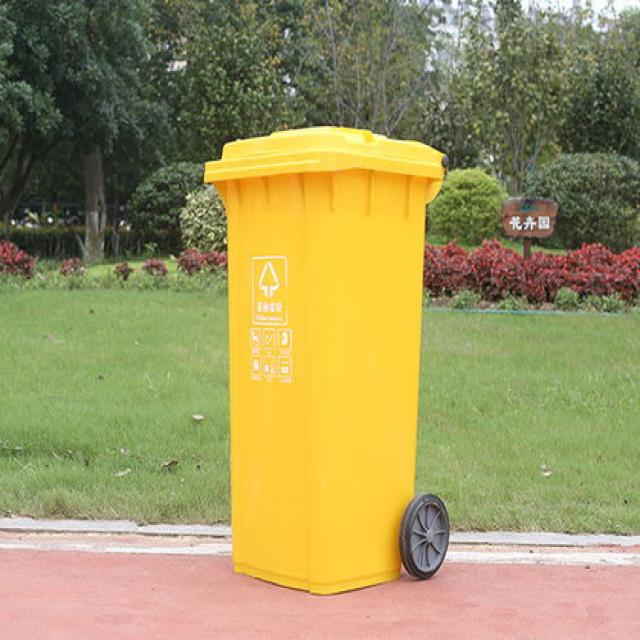garbage_bin: (202, 126, 446, 593)
